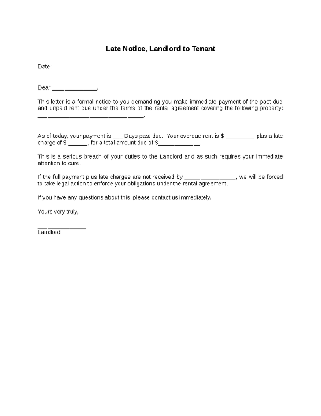textline: (38, 111, 145, 119), (183, 170, 239, 183), (52, 79, 98, 94), (35, 219, 85, 232), (159, 139, 201, 148), (224, 131, 257, 142), (68, 139, 88, 148), (112, 132, 123, 140)
